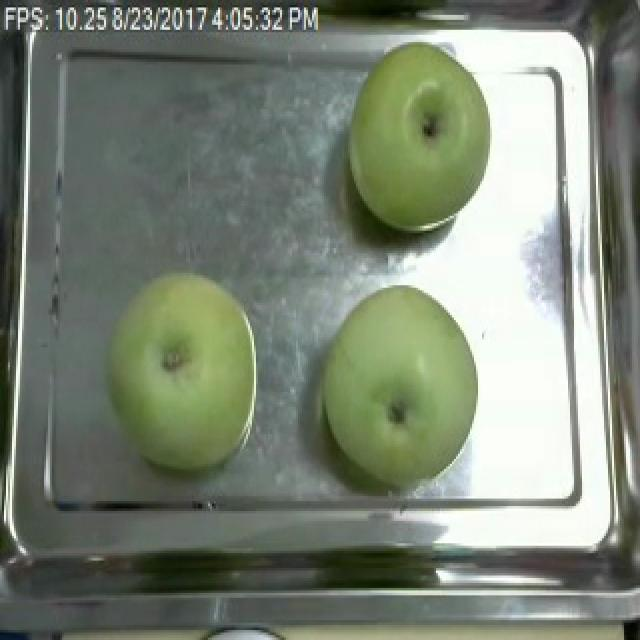50-_ripeness: (102, 270, 258, 479), (343, 30, 493, 238), (322, 290, 476, 490)
